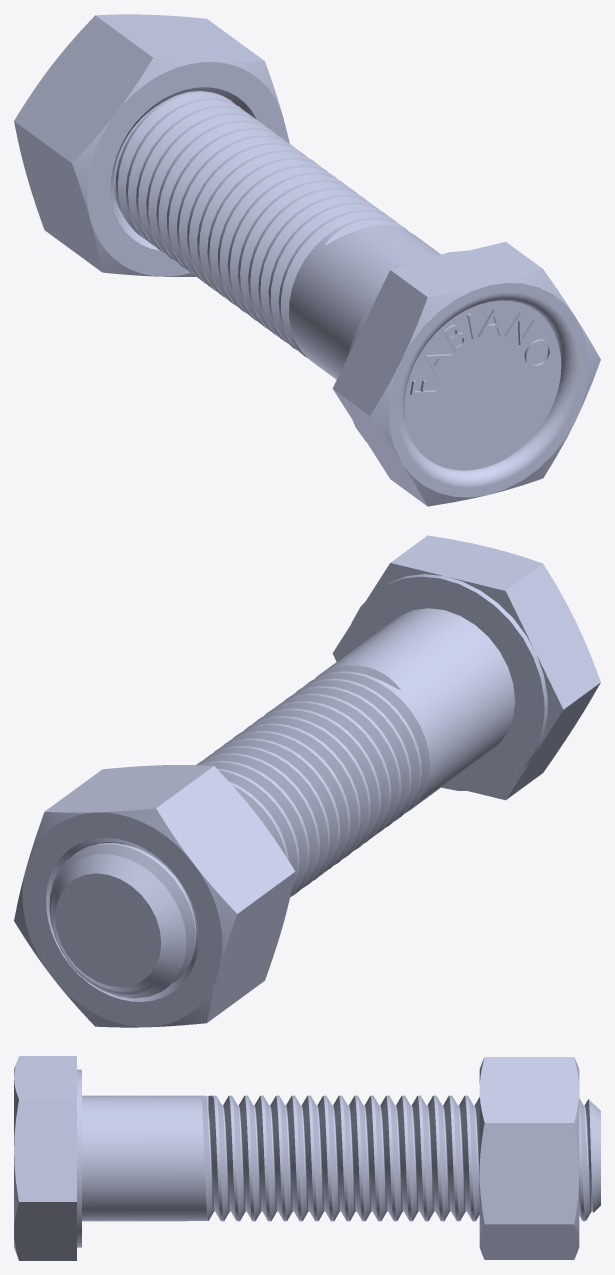
File: parafuso e porca_escalados.dae
The picture shows the model from 3 angles, top to bottom: view 1: azimuth 30°, elevation 25°; view 2: azimuth 150°, elevation 25°; view 3: azimuth 270°, elevation 25°; orthographic projection. The views are drawn at different scales.
Visible parts, largest first — view 1: node_bf8ba6f8_5497_444b_8204_c9a766f6ac41_mesh0, node_614589b7_6610_4431_9fc1_e04f93cd311c_mesh0; view 2: node_bf8ba6f8_5497_444b_8204_c9a766f6ac41_mesh0, node_614589b7_6610_4431_9fc1_e04f93cd311c_mesh0; view 3: node_bf8ba6f8_5497_444b_8204_c9a766f6ac41_mesh0, node_614589b7_6610_4431_9fc1_e04f93cd311c_mesh0.
Boxes of the visible parts, x1,y1,x2,y2 form: node_bf8ba6f8_5497_444b_8204_c9a766f6ac41_mesh0: [113, 91, 600, 506]; node_614589b7_6610_4431_9fc1_e04f93cd311c_mesh0: [14, 14, 289, 276]; node_bf8ba6f8_5497_444b_8204_c9a766f6ac41_mesh0: [49, 535, 600, 998]; node_614589b7_6610_4431_9fc1_e04f93cd311c_mesh0: [14, 765, 295, 1027]; node_bf8ba6f8_5497_444b_8204_c9a766f6ac41_mesh0: [14, 1056, 600, 1260]; node_614589b7_6610_4431_9fc1_e04f93cd311c_mesh0: [479, 1057, 579, 1259].
Size of the model in its own units: 0.00483 by 0.00466 by 0.0138.
